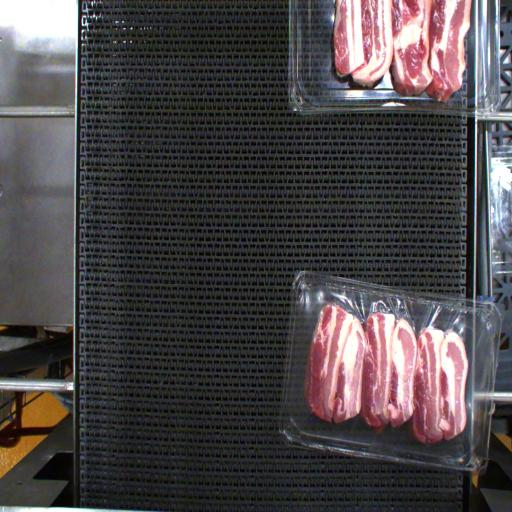unsealed: (288, 282, 492, 460)
